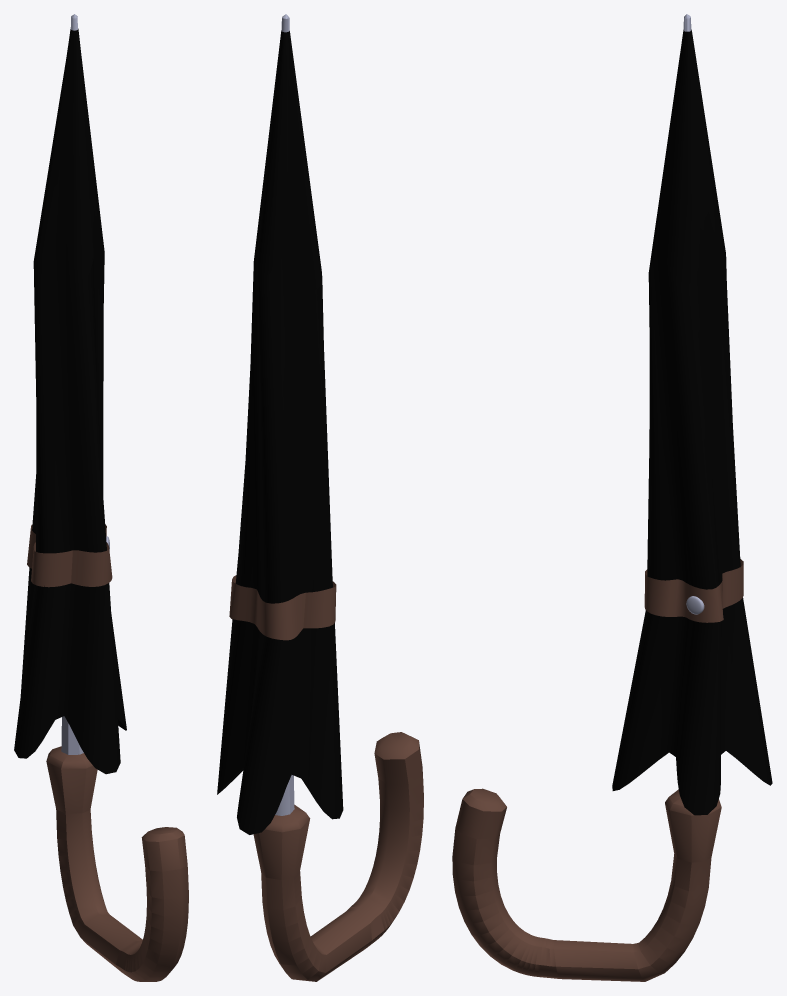
Rendered from umblleraclose.fbx.
The picture shows the model from 3 angles, left to right: view 1: azimuth 30°, elevation 25°; view 2: azimuth 150°, elevation 25°; view 3: azimuth 270°, elevation 25°; orthographic projection. The views are drawn at different scales.
Parts seen in each view (by area): view 1: UmbrellaClosed; view 2: UmbrellaClosed; view 3: UmbrellaClosed.
Part boxes in pixels (<box>): UmbrellaClosed: <box>14,14,188,981</box>; UmbrellaClosed: <box>217,14,423,981</box>; UmbrellaClosed: <box>452,14,772,981</box>.
Bounding box in the file's own units: 2.73 × 22.07 × 6.64.
1 material, 1 textured.
